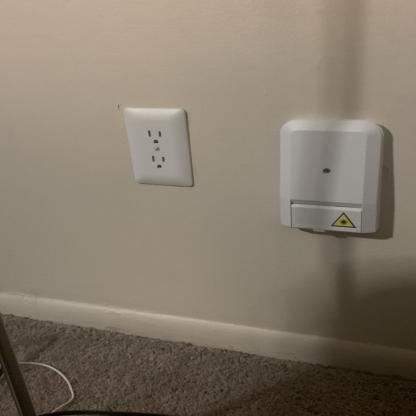OUTLET: (122, 108, 198, 186)
